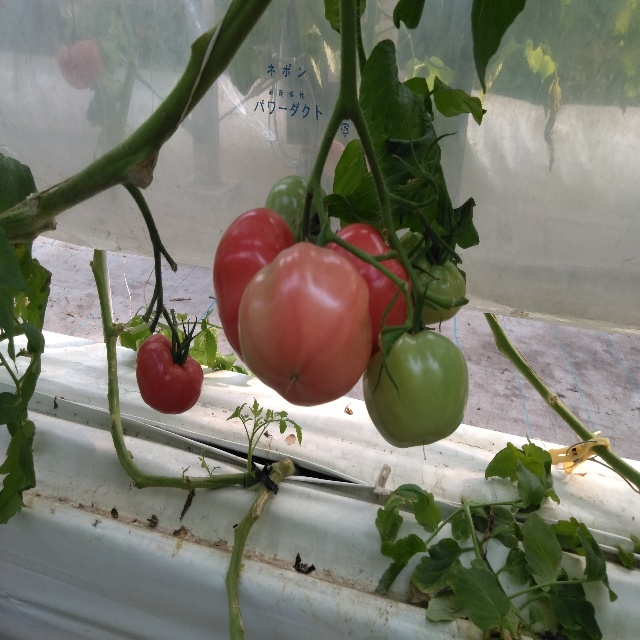b_fully_ripened: (213, 208, 296, 361), (323, 222, 411, 356), (136, 334, 205, 415)
b_green: (362, 327, 469, 449), (394, 232, 466, 326), (265, 175, 330, 248)
b_half_ripened: (238, 242, 373, 407)
